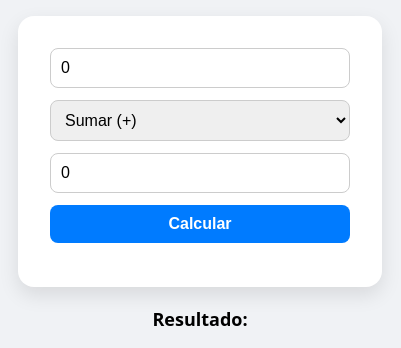
Test: Calculadora UI - Pruebas Funcionales › TC-F01: El usuario puede ingresar dos números, seleccionar suma y ver el resultado
Type "4" into the 1st number field with placeholder "Número 1" at x=200, y=68, box [50,48,350,88]
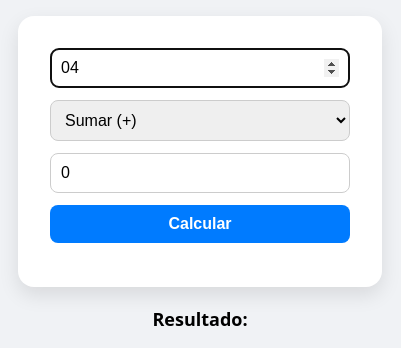
Select "Sumar (+)" in the dropdown at x=200, y=121, box [50,100,350,141]
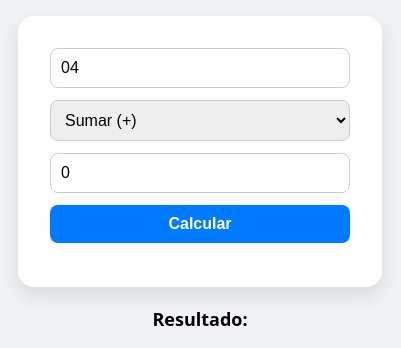
Type "2" into the 2nd number field with placeholder "Número 2" at x=200, y=173, box [50,153,350,193]
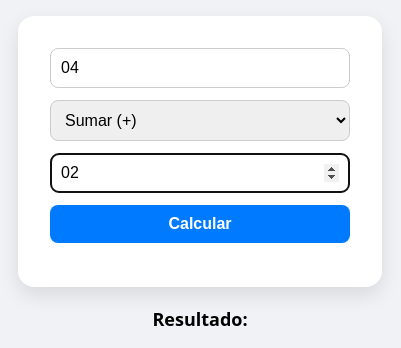
Click the button "Calcular" at x=200, y=224, box [50,205,350,243]
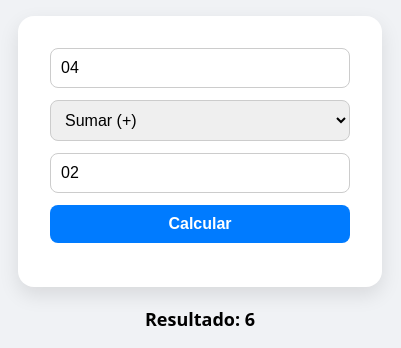
Expected: the text "Resultado: 6" is shown, [145,307,255,331]
